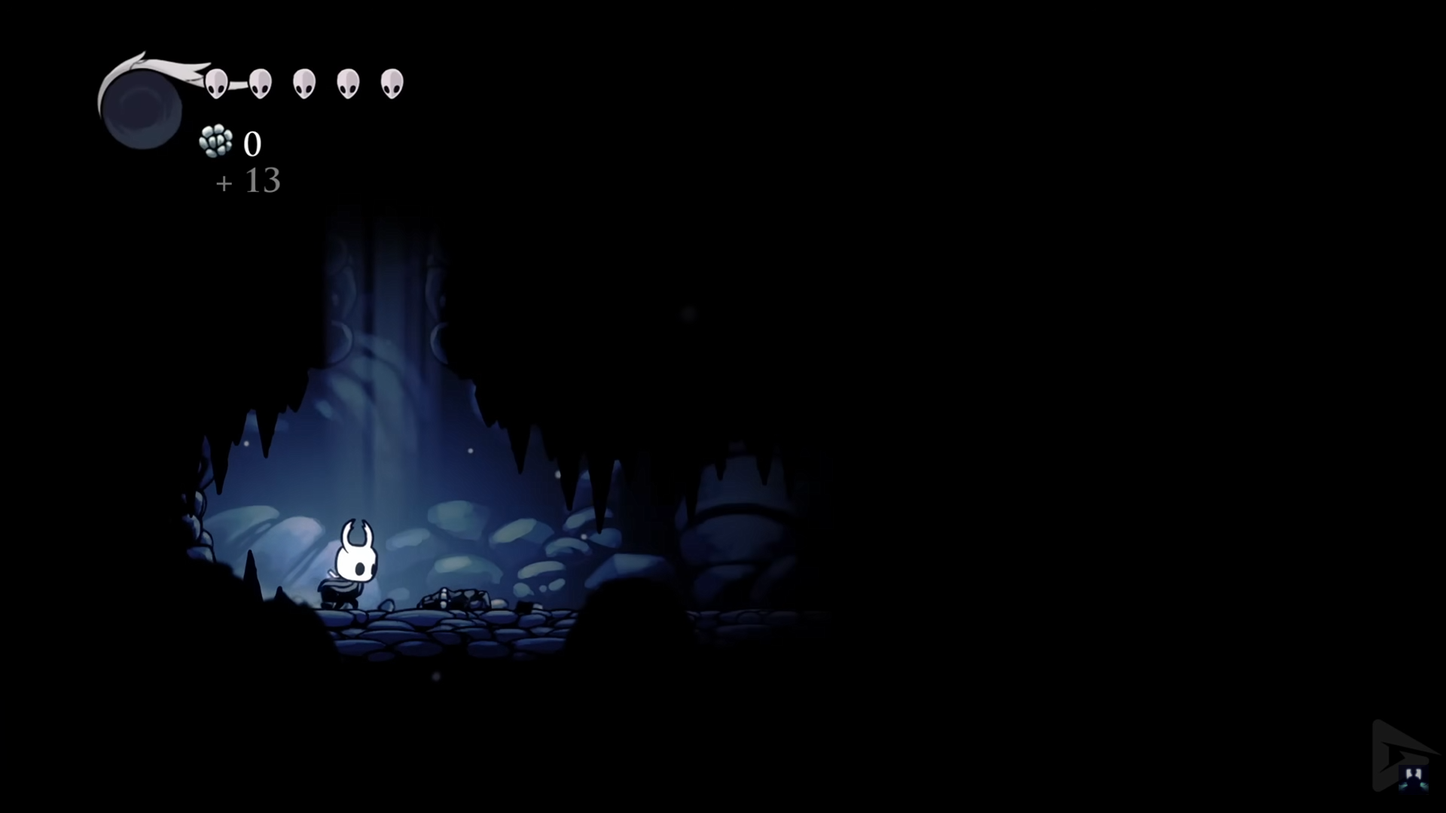HK: (200, 60, 413, 103), (328, 511, 379, 614)
